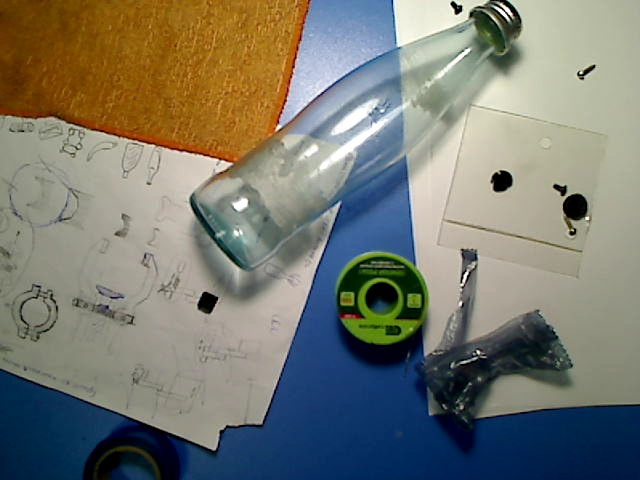bottle: (187, 1, 524, 271)
